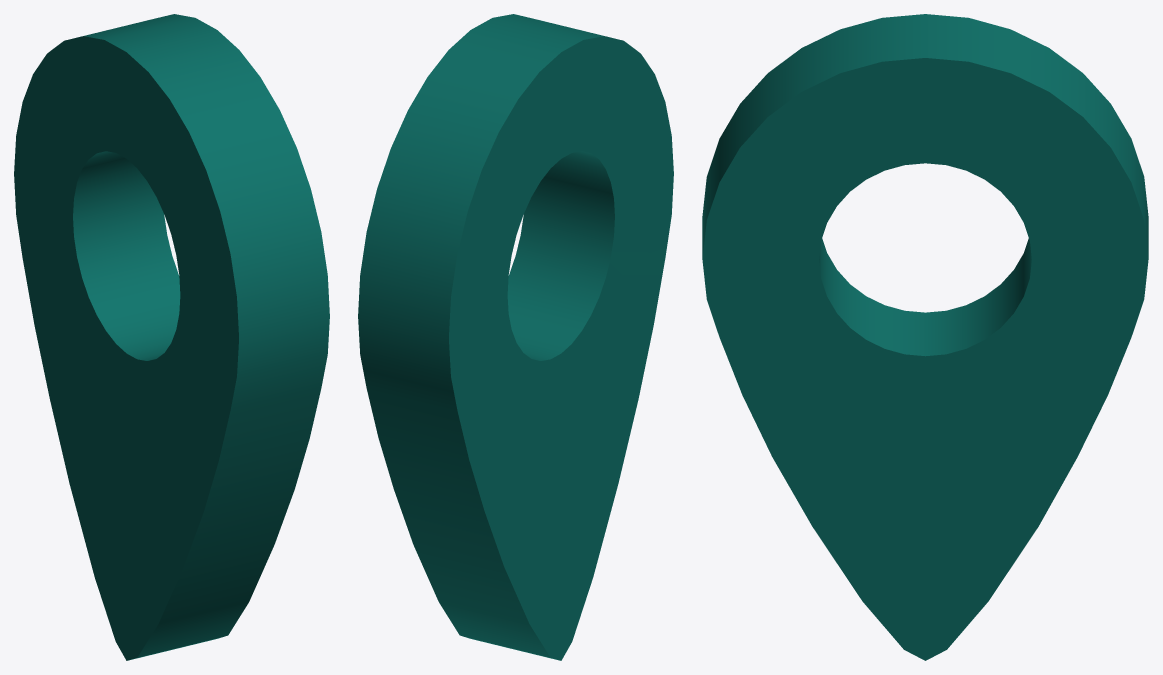
File: pinpoint.glb
3 views of the same model, side by side, from view 1: azimuth 30°, elevation 25°; view 2: azimuth 150°, elevation 25°; view 3: azimuth 270°, elevation 25° (orthographic).
Parts seen in each view (by area): view 1: Cylinder; view 2: Cylinder; view 3: Cylinder.
Boxes of the visible parts, x1=… form: Cylinder: x1=14, y1=14, x2=329, y2=660; Cylinder: x1=358, y1=14, x2=673, y2=660; Cylinder: x1=702, y1=14, x2=1148, y2=660.
Bounding box in the file's own units: 0.4658 × 2.98 × 2.
